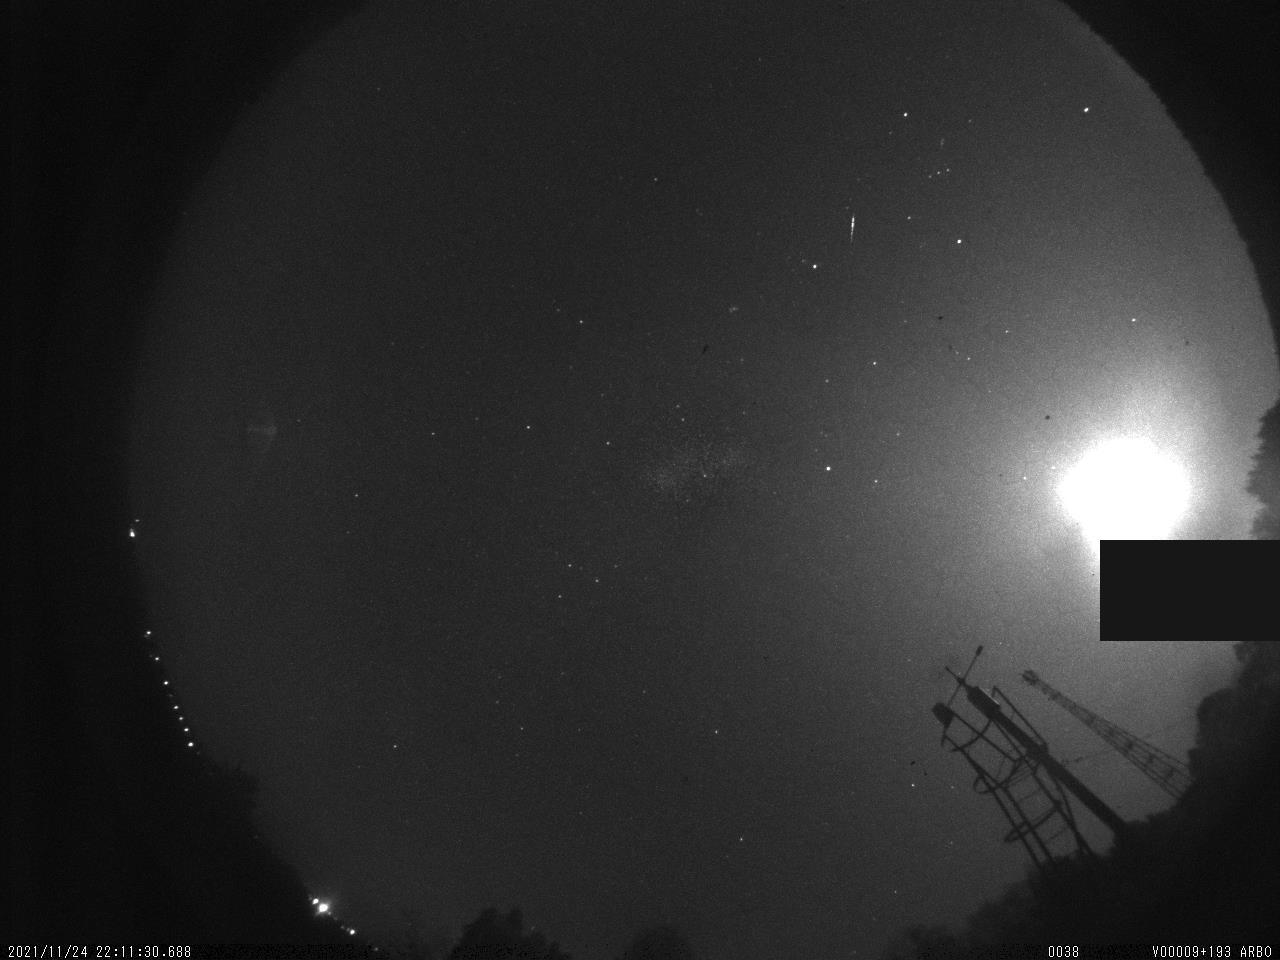meteor: (848, 213, 858, 242)
